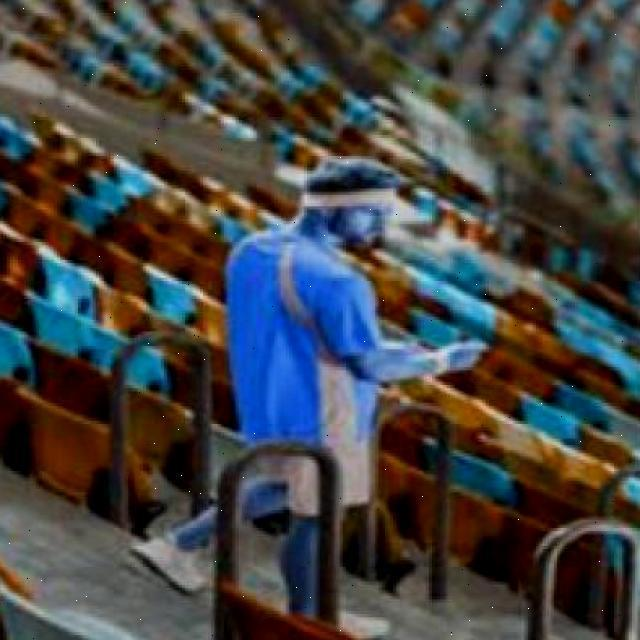stair: (106, 445, 352, 640)
